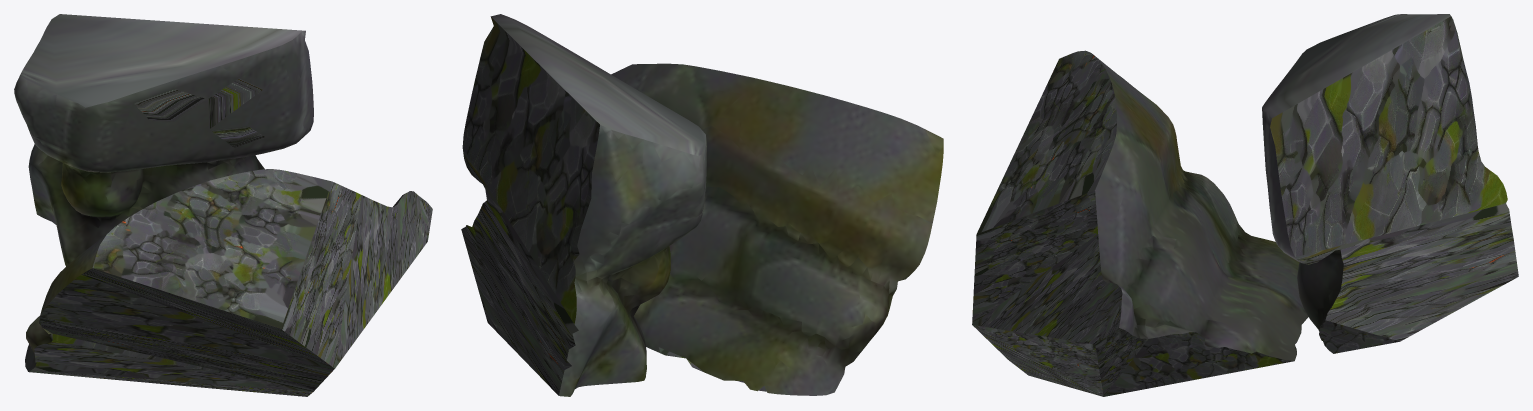
The model's file is Frag_00.gltf.
3 views of the same model, side by side, from view 1: azimuth 30°, elevation 25°; view 2: azimuth 150°, elevation 25°; view 3: azimuth 270°, elevation 25° (orthographic). The views are drawn at different scales.
Visible parts, largest first — view 1: Frag_00; view 2: Frag_00; view 3: Frag_00.
Boxes of the visible parts, bbox=[...] form: Frag_00: bbox=[14, 14, 432, 396]; Frag_00: bbox=[461, 14, 943, 396]; Frag_00: bbox=[972, 14, 1518, 396].
Bounding box in the file's own units: 0.362 × 0.2426 × 0.3764.
1 material, 1 textured.
